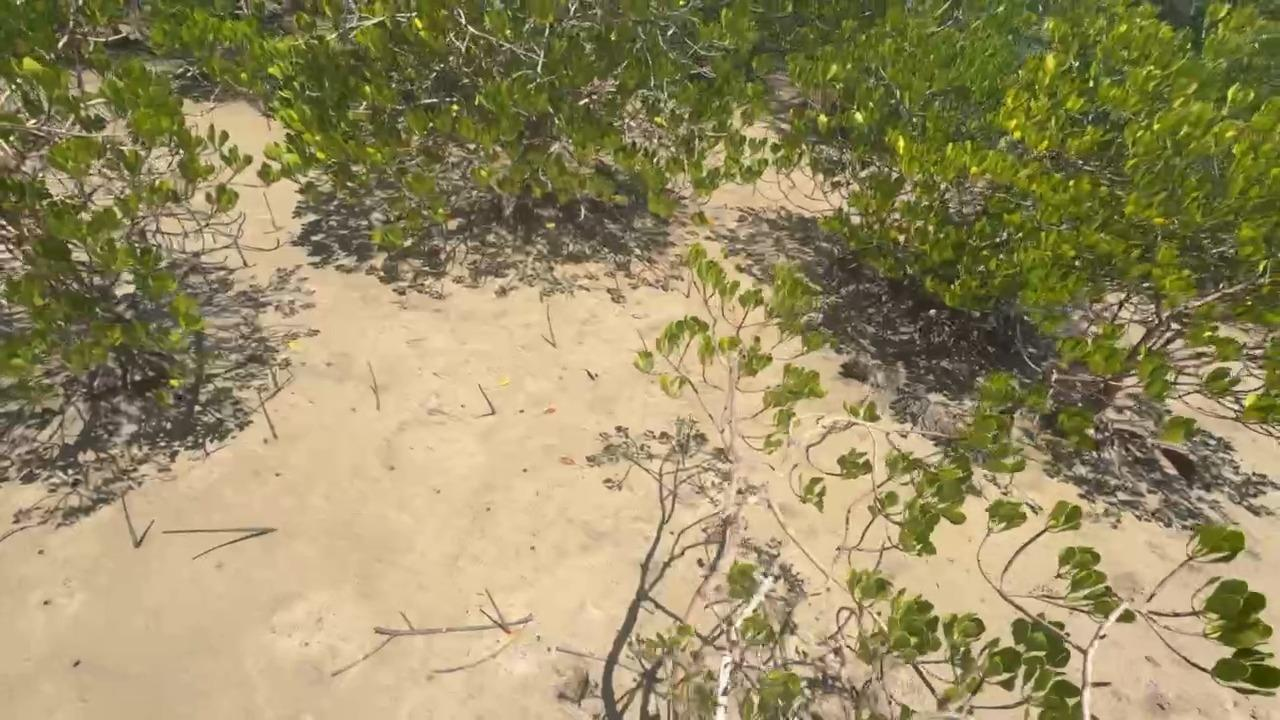Tree: (485, 589, 509, 633), (161, 525, 275, 534), (122, 492, 139, 548), (258, 391, 277, 439), (368, 361, 380, 410), (262, 192, 277, 228), (478, 383, 495, 414), (547, 303, 556, 347), (234, 238, 246, 266), (636, 329, 647, 351)
